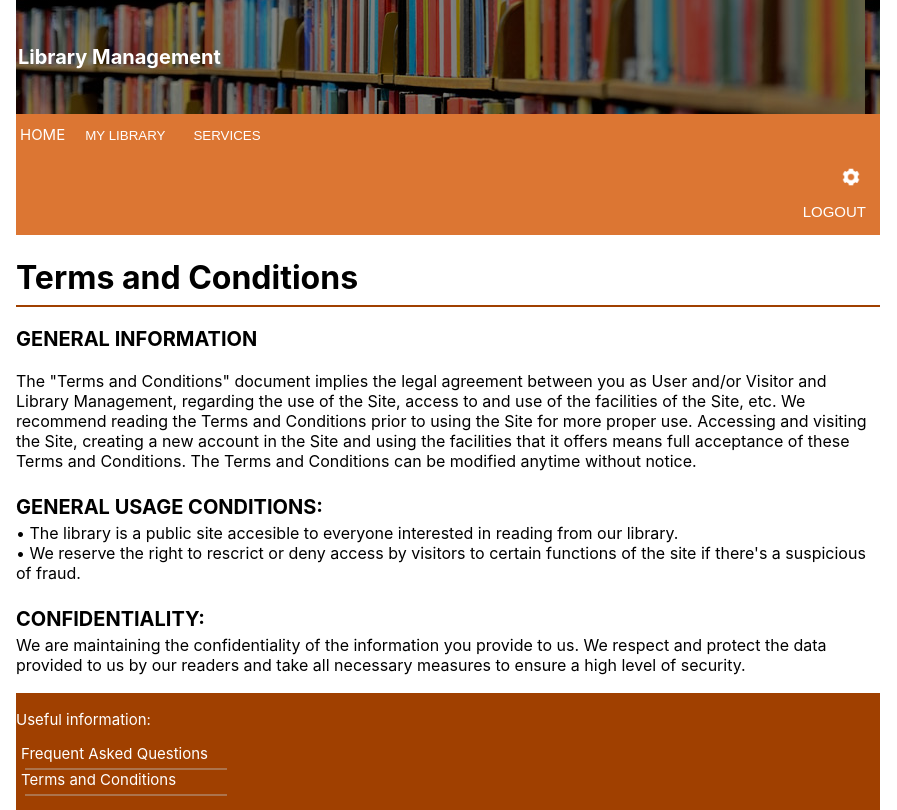
Menu buttons tests › Given any input then the FAQ page loads
(page scrolled)
Click the link "Frequent Asked Questions" at (114, 754), box x1=21 y1=744 x2=208 y2=763
(page scrolled)
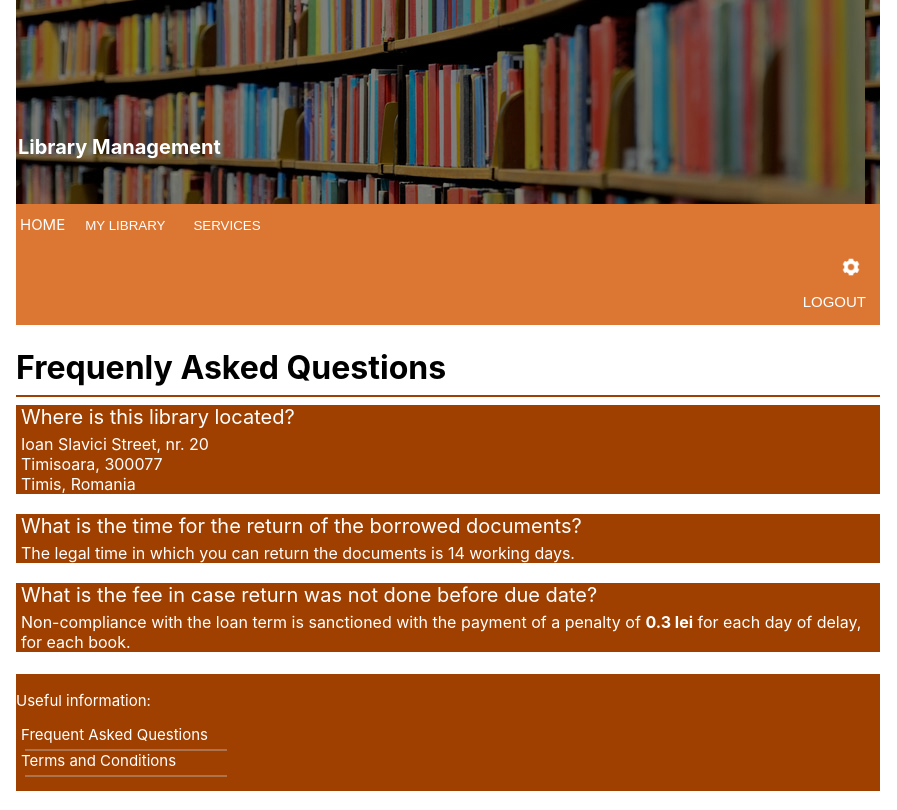
Expected: the text "Where is this library located?" is shown, x1=16 y1=405 x2=880 y2=434
